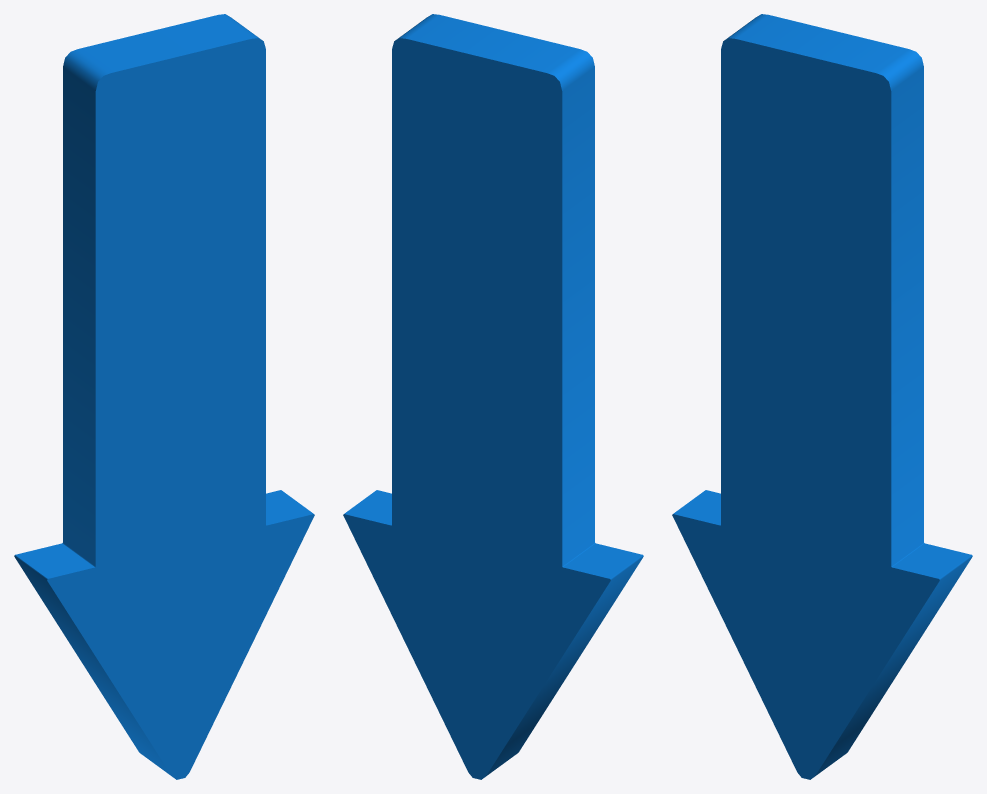
Rendered from arrow.glb.
The picture shows the model from 3 angles, left to right: view 1: azimuth 30°, elevation 25°; view 2: azimuth 150°, elevation 25°; view 3: azimuth 330°, elevation 25°; orthographic projection.
Visible parts, largest first — view 1: Arrow5_Arrow5_0.001; view 2: Arrow5_Arrow5_0.001; view 3: Arrow5_Arrow5_0.001.
Part boxes in pixels (box(x1,y1,x2,y2)): Arrow5_Arrow5_0.001: box(14, 14, 314, 779); Arrow5_Arrow5_0.001: box(343, 14, 643, 779); Arrow5_Arrow5_0.001: box(672, 14, 972, 779).
Size of the model in its own units: 0.1193 by 0.3078 by 0.0254.
